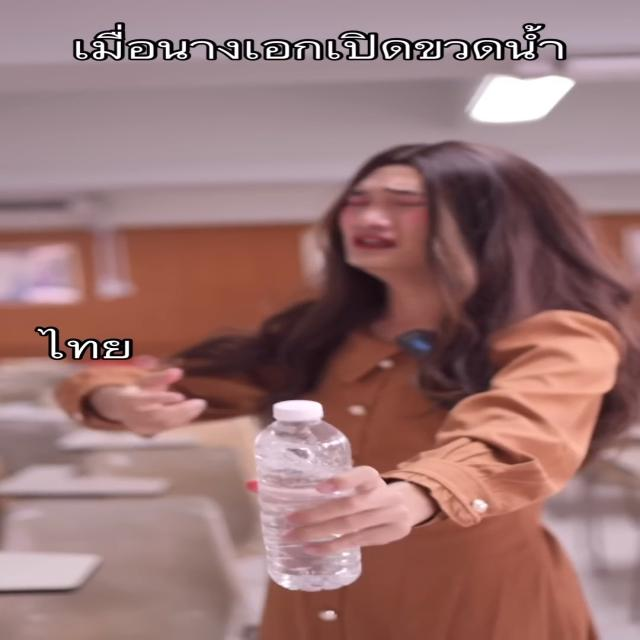bottle: (250, 398, 366, 592)
